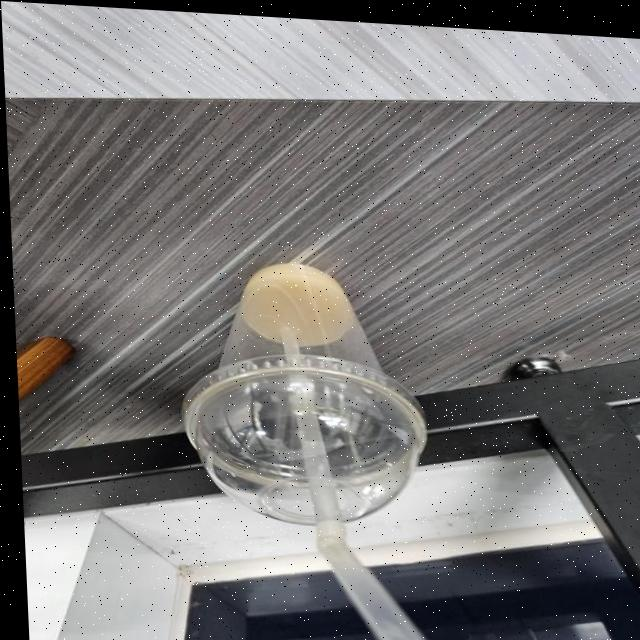cup: (166, 249, 427, 534)
